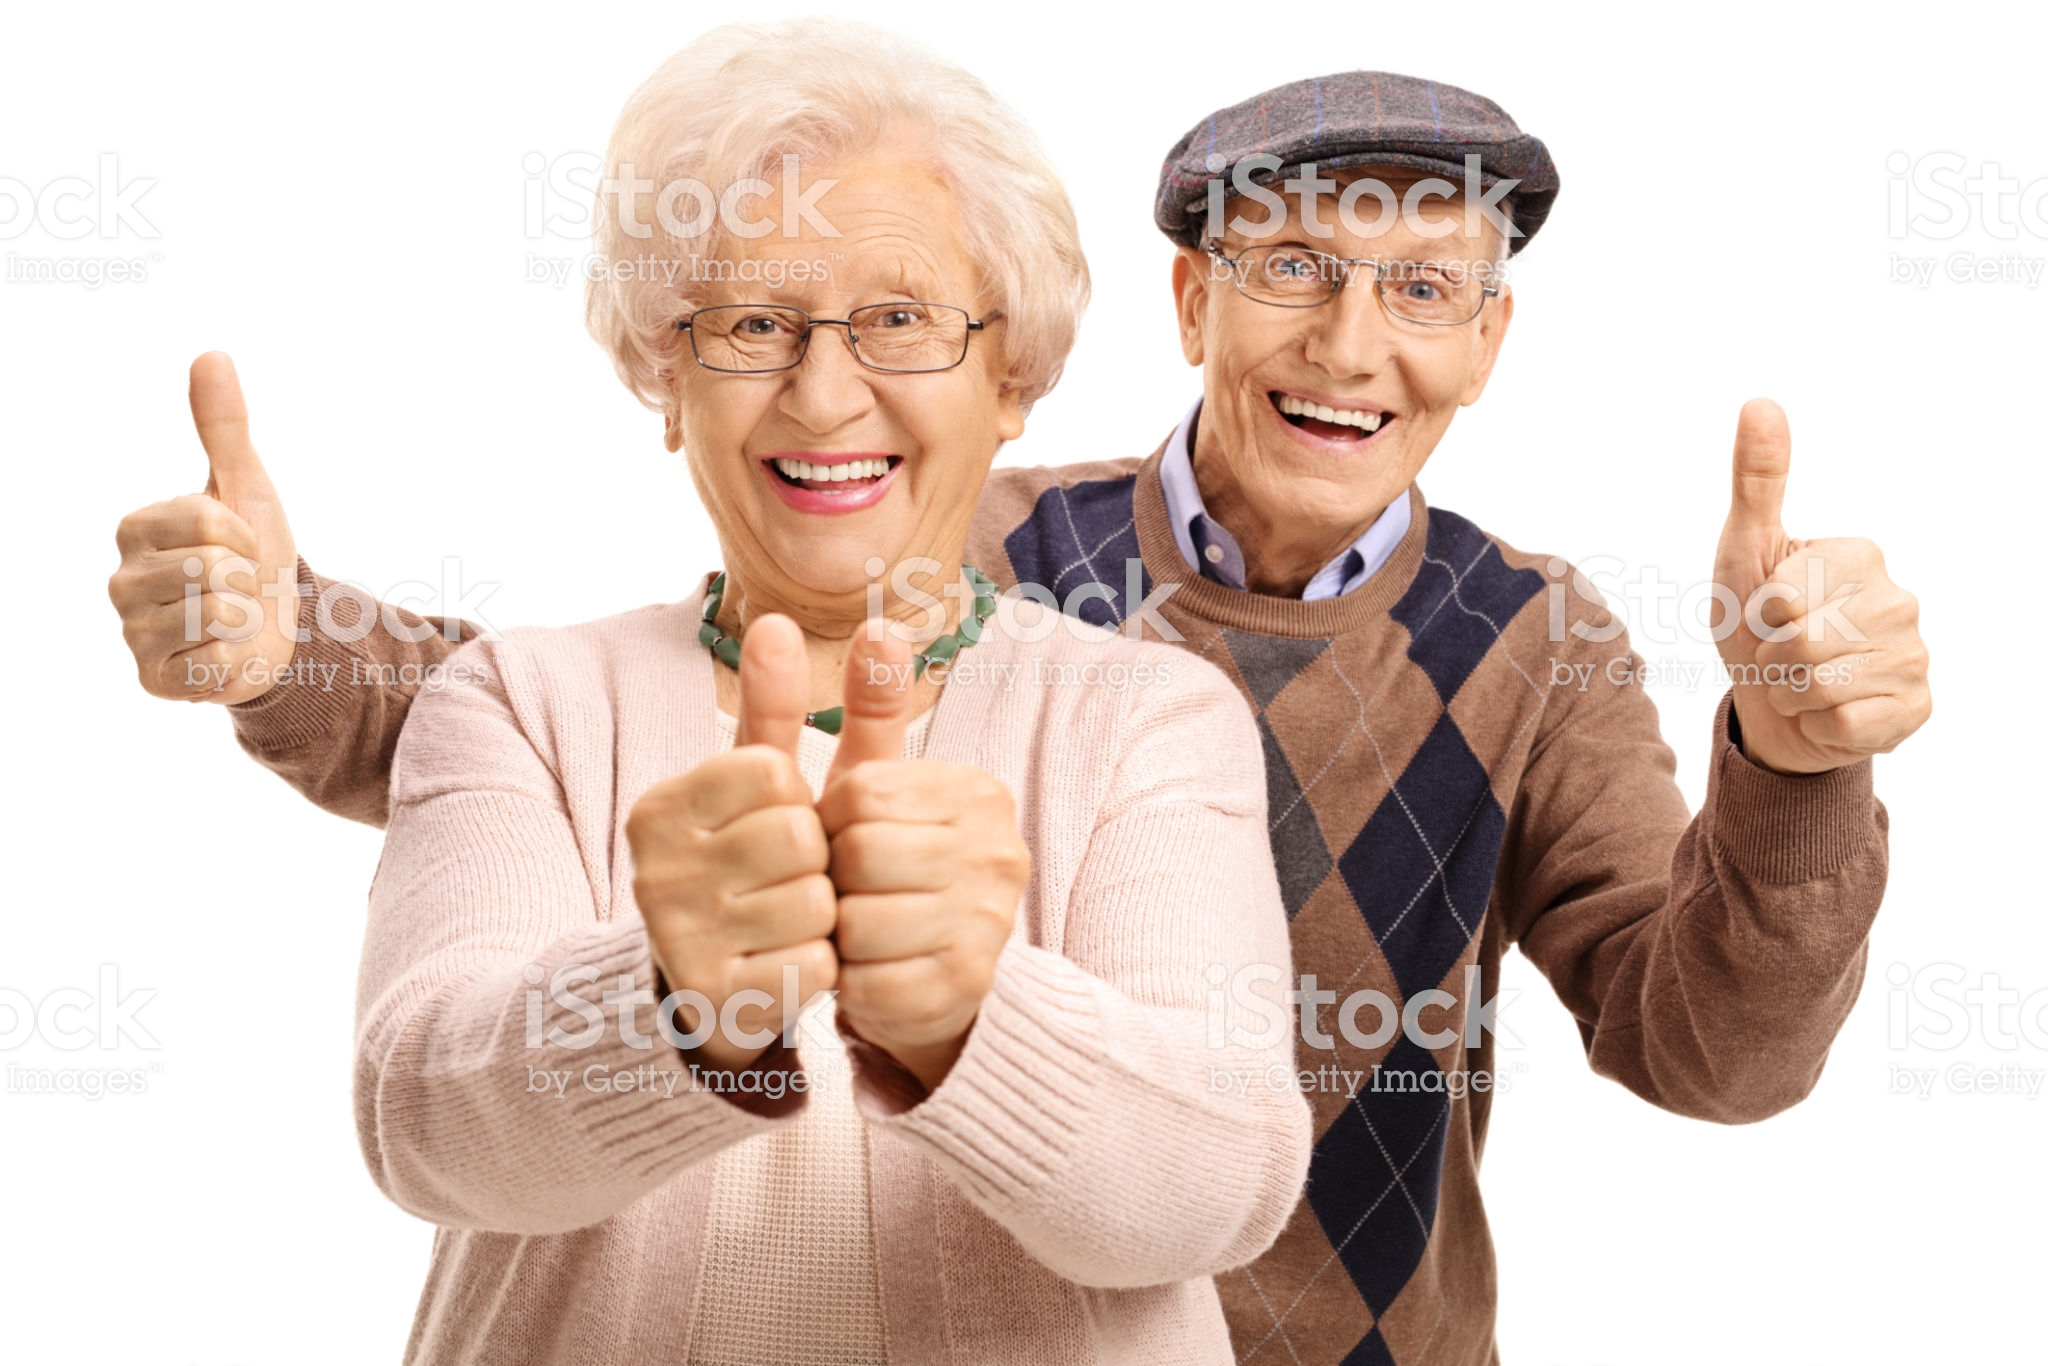thumbsup: (622, 608, 840, 1046), (824, 614, 1036, 1047), (1705, 393, 1937, 778), (108, 349, 299, 717)
